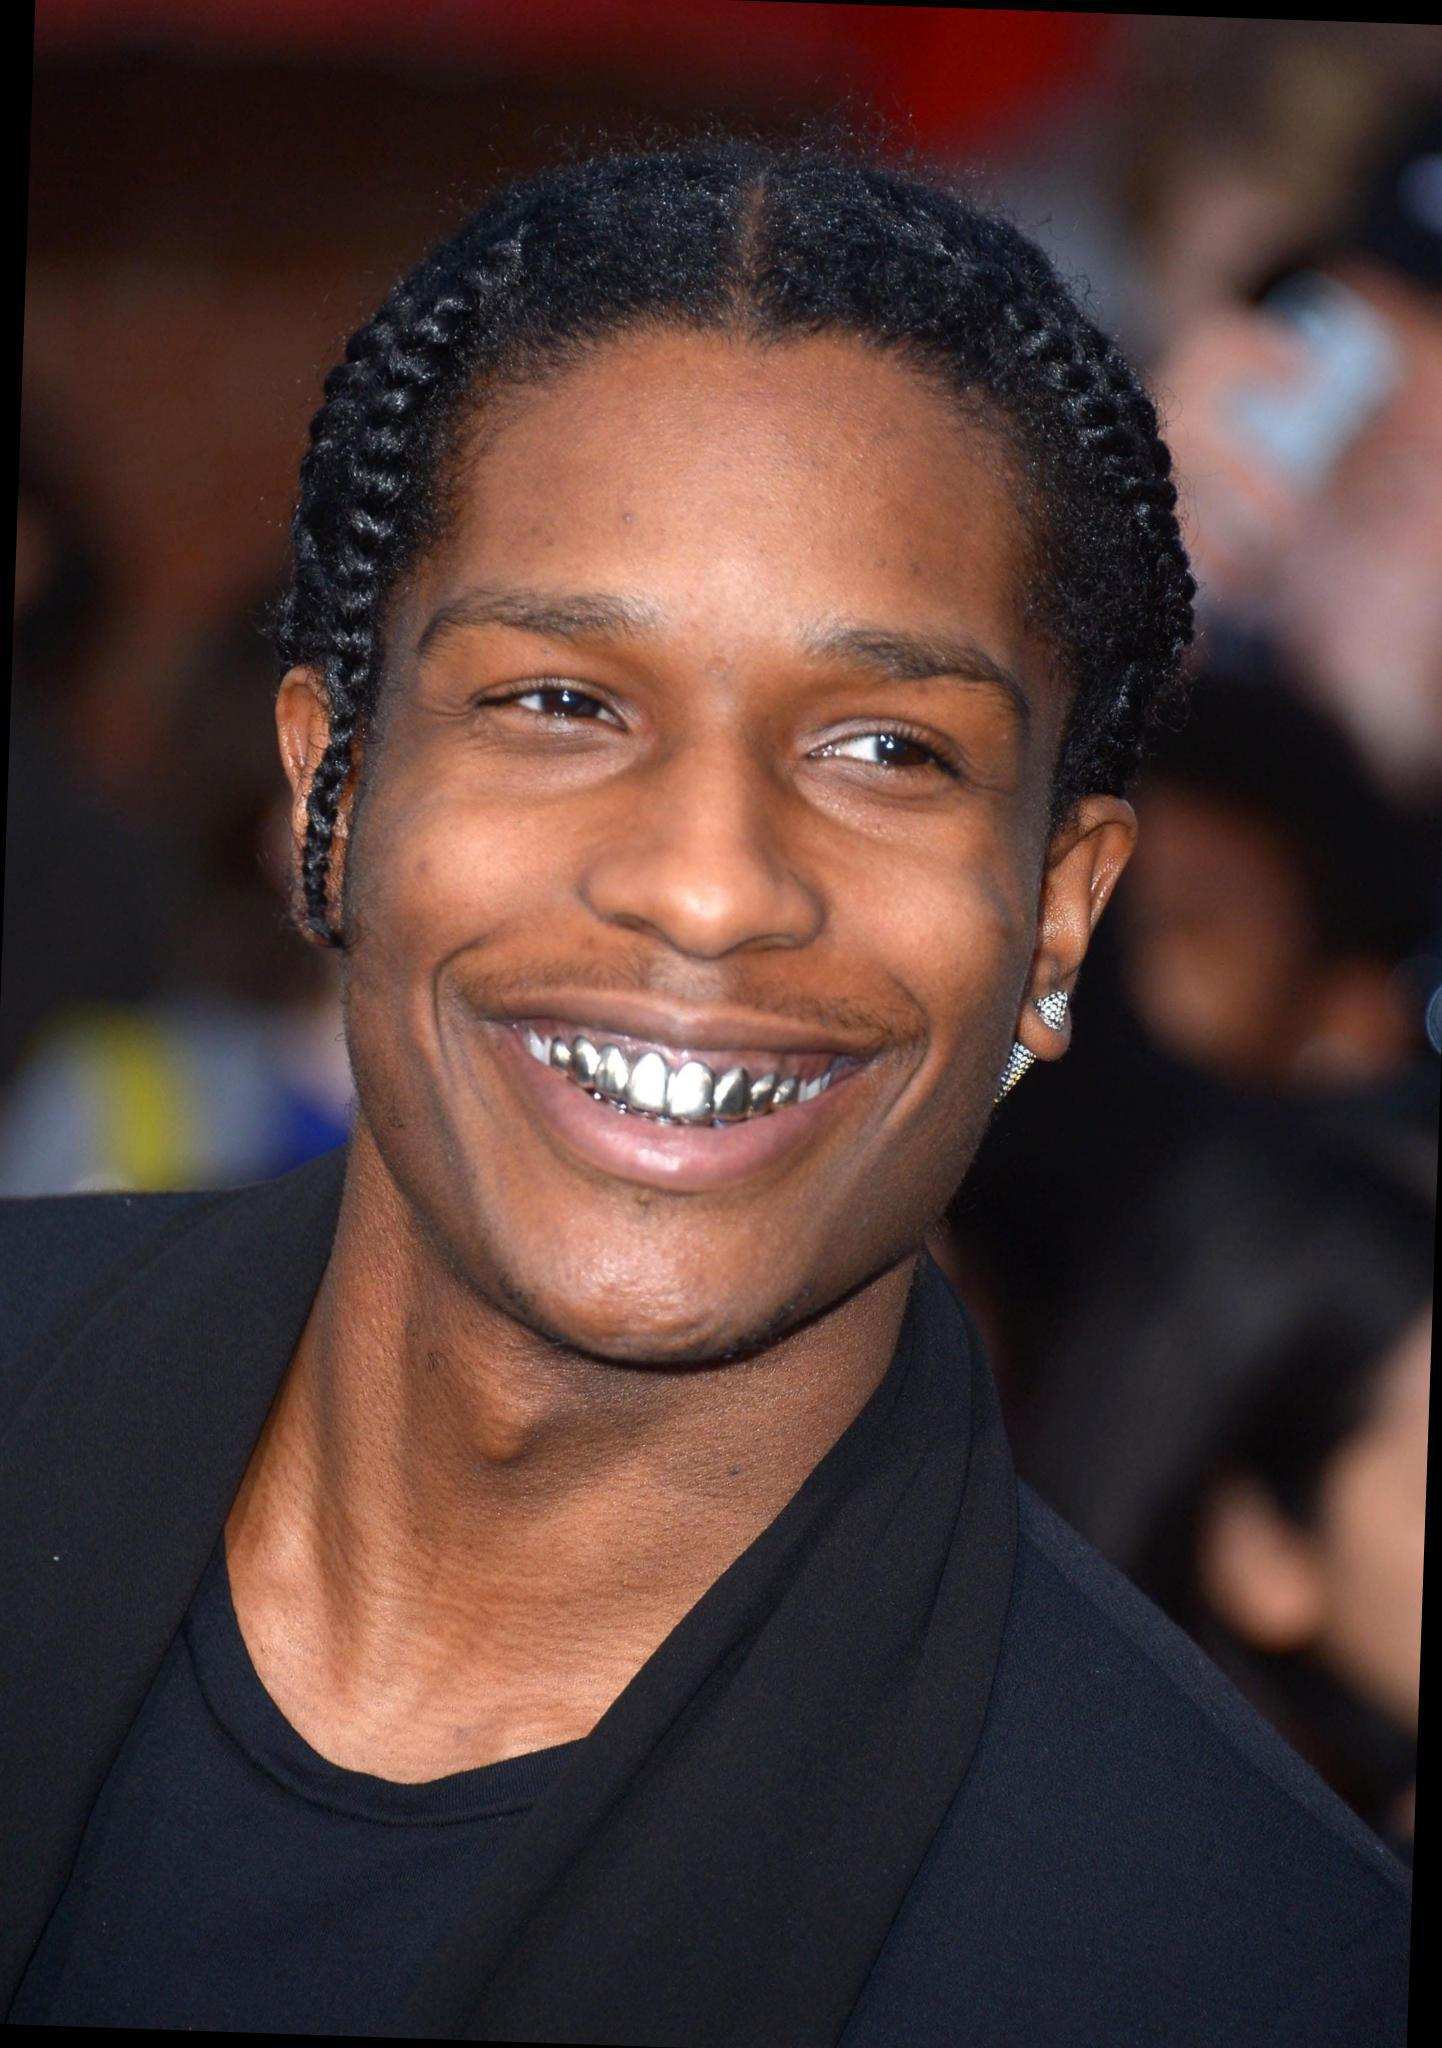Sober: (412, 360, 1007, 1323)
